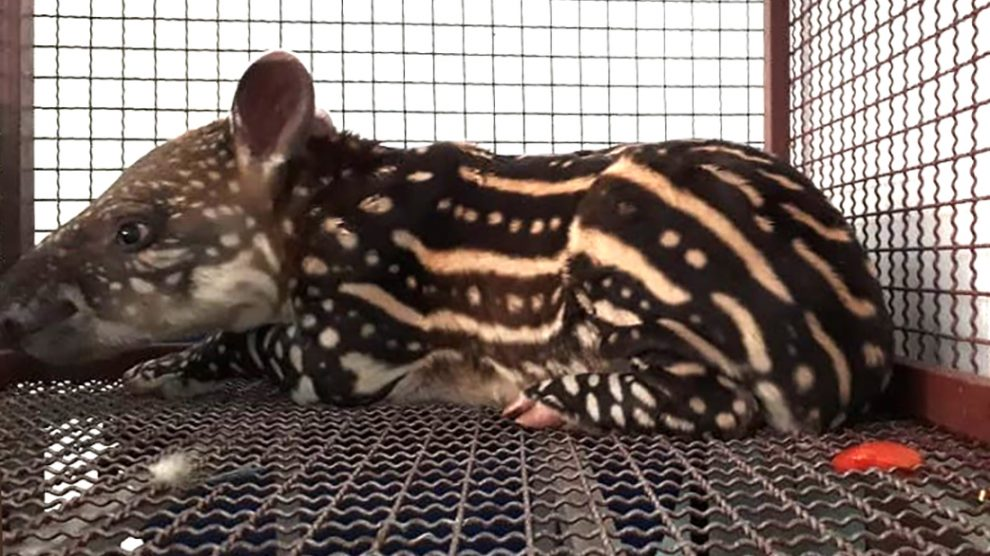Anta: (14, 44, 914, 457)
